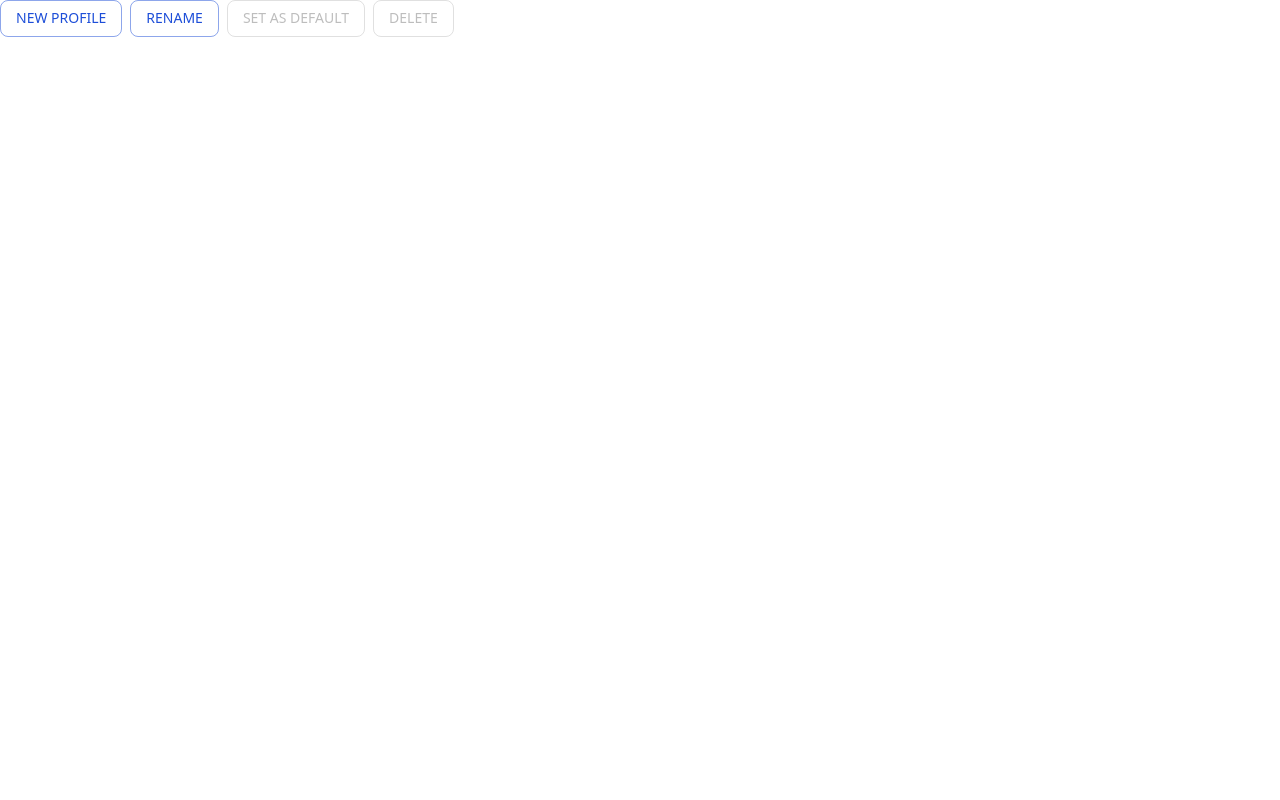
Test case: ProfileManager, new › keeps the dialog open and shows the message when the name is taken
What coordinates should you click on to do the following:
click the button "New profile"
I would click on:
 (61, 18)
Its box is [0, 0, 122, 36].
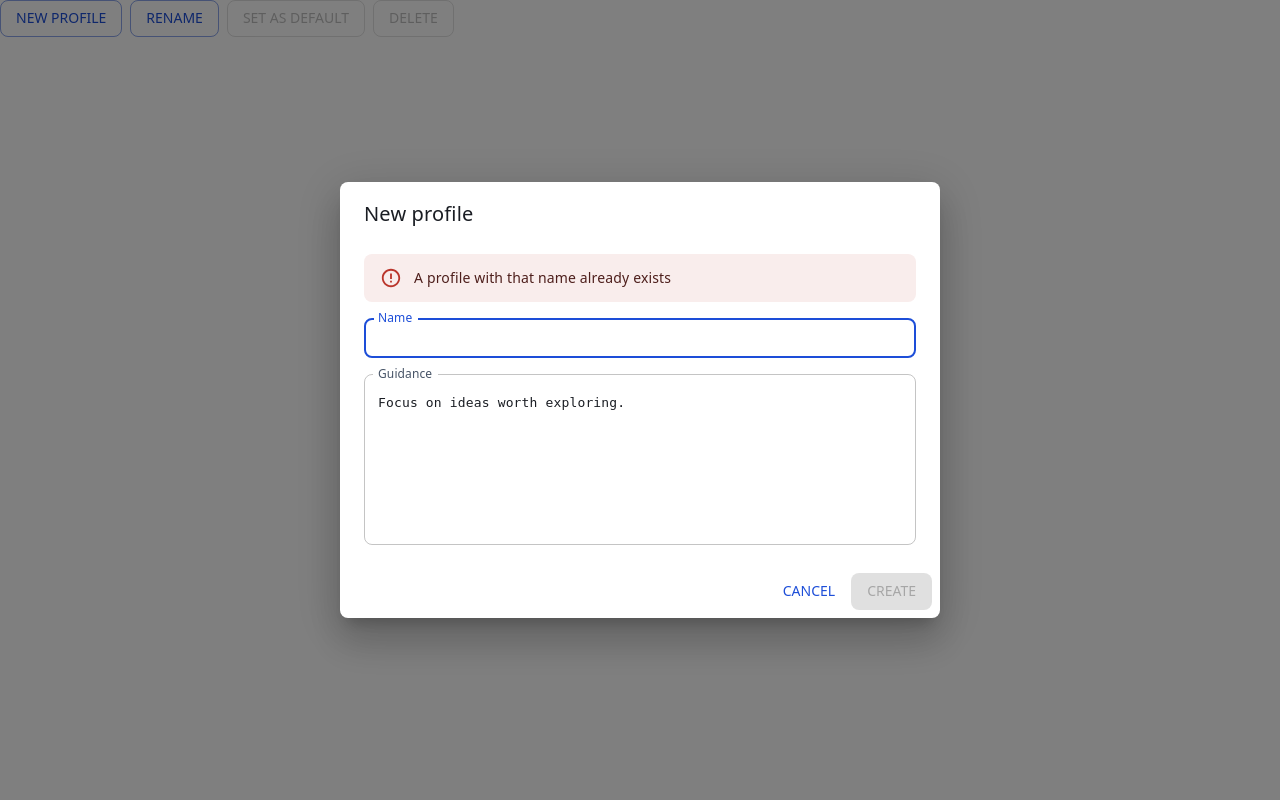
Check: the dialog "New profile" is shown, box [340, 182, 940, 618]
Check: the message reads "A profile with that name already exists", box [414, 268, 671, 287]
